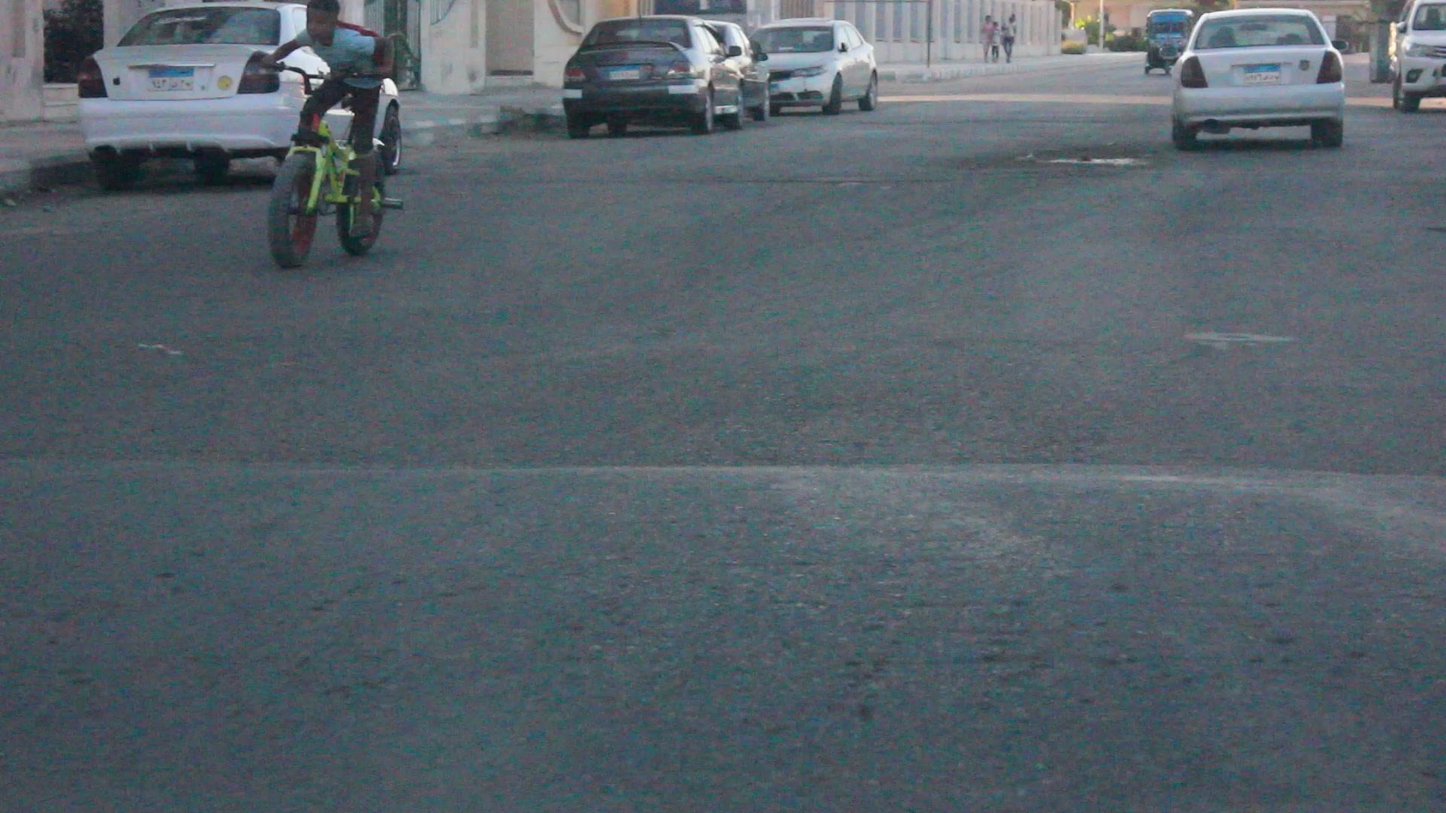Bump: (0, 453, 1444, 812)
Pothole: (969, 143, 1160, 168)
